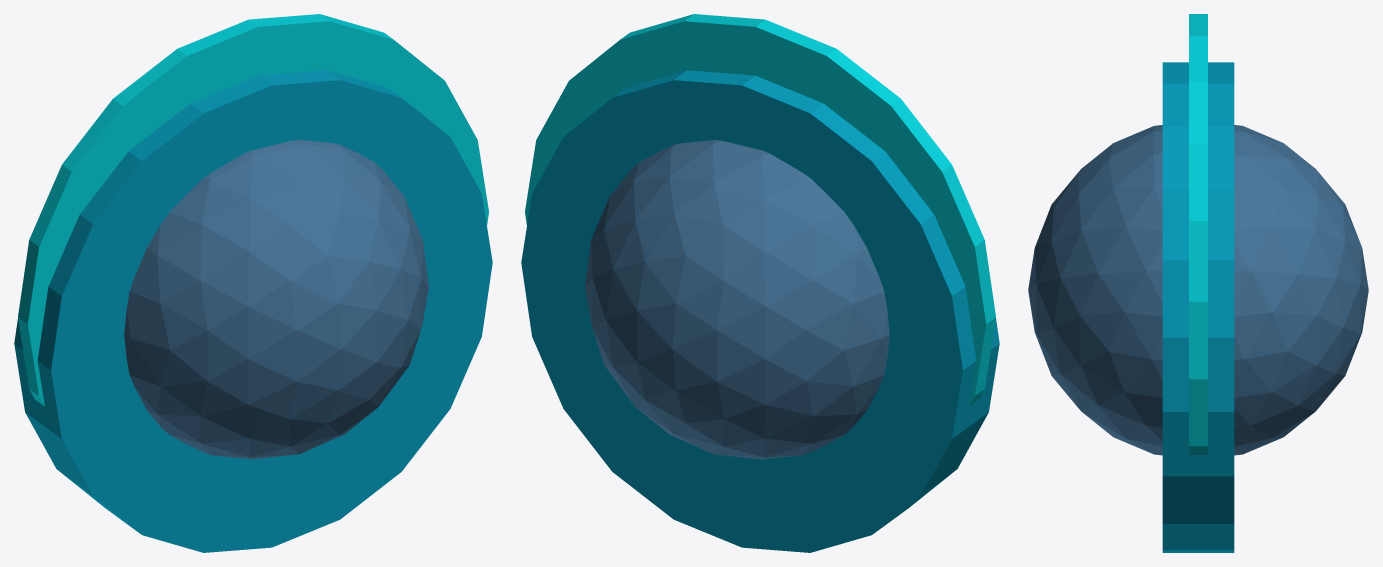
Rendered from bumper.glb.
3 renders of one model, left to right at view 1: azimuth 30°, elevation 25°; view 2: azimuth 150°, elevation 25°; view 3: azimuth 270°, elevation 25°, orthographic. The views are drawn at different scales.
Parts seen in each view (by area): view 1: geometry_0; view 2: geometry_0; view 3: geometry_0.
Part boxes in pixels (x1,y1,x2,y2): geometry_0: (14,14,492,552); geometry_0: (521,14,999,552); geometry_0: (1028,14,1368,552).
Bounding box in the file's own units: 1.88 × 1.99 × 1.24.
